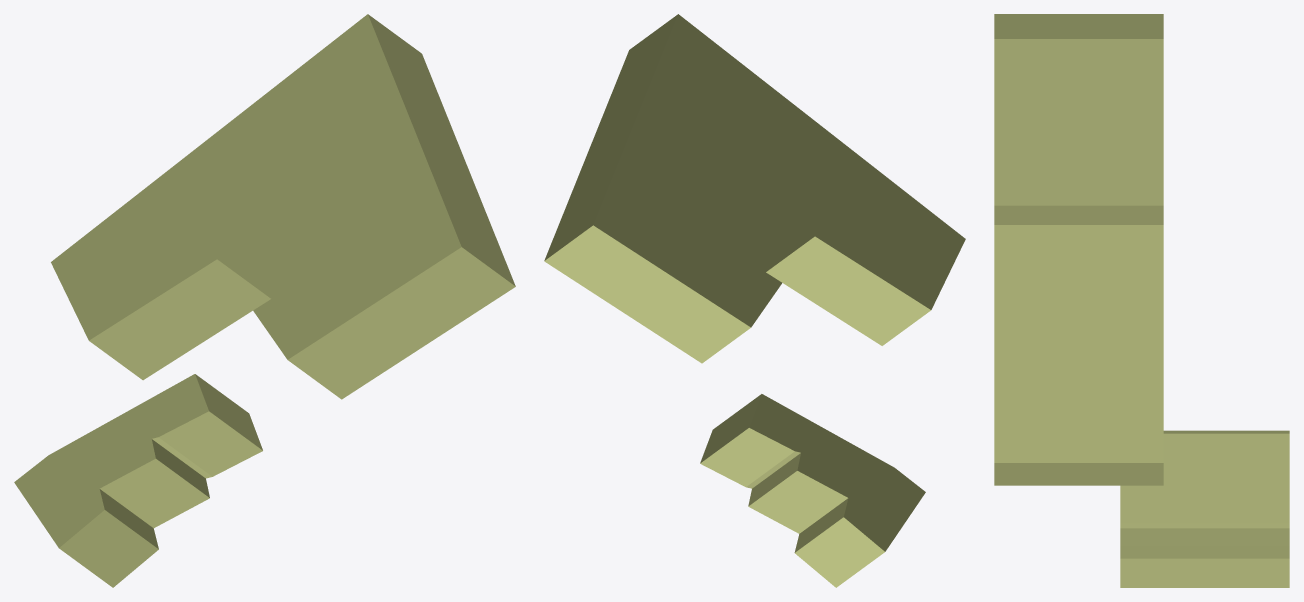
The picture shows the model from 3 angles, left to right: view 1: azimuth 30°, elevation 25°; view 2: azimuth 150°, elevation 25°; view 3: azimuth 270°, elevation 25°; orthographic projection. The views are drawn at different scales.
Parts seen in each view (by area): view 1: 0_0_1_1_2_2_1_0_0; view 2: 0_0_1_1_2_2_1_0_0; view 3: 0_0_1_1_2_2_1_0_0.
Boxes of the visible parts, x1,y1,x2,y2 form: 0_0_1_1_2_2_1_0_0: (14,14,515,587); 0_0_1_1_2_2_1_0_0: (544,14,965,587); 0_0_1_1_2_2_1_0_0: (994,14,1289,587).
Bounding box in the file's own units: 39.4 × 45.65 × 15.7.
